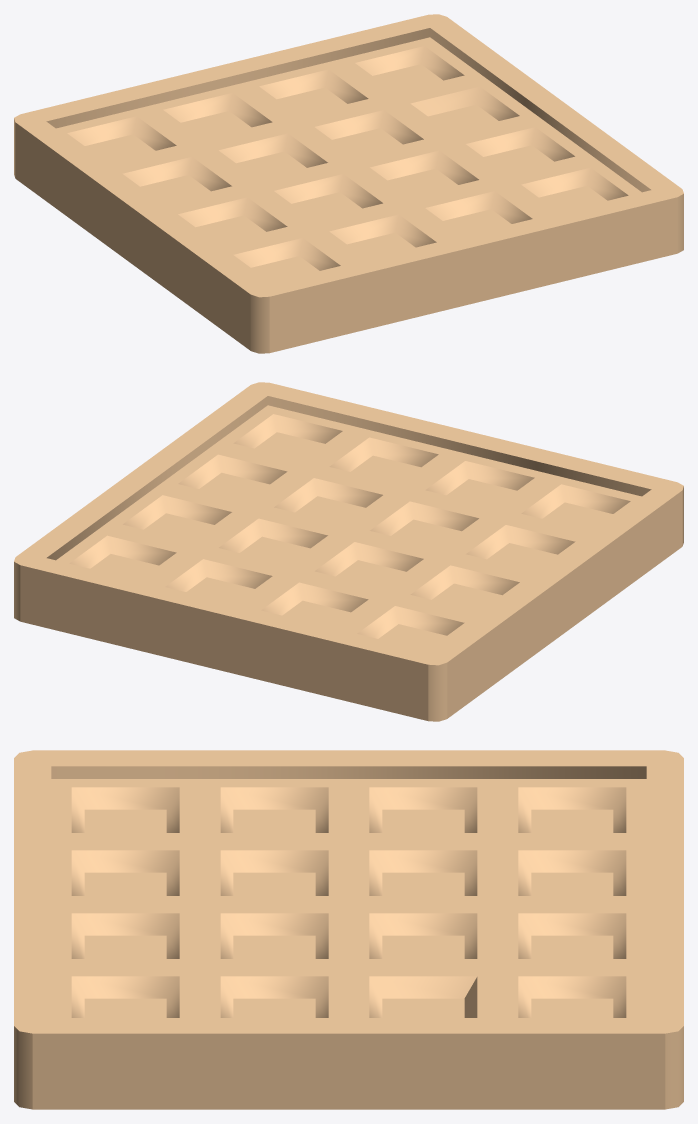
File: Waffle.glb
The picture shows the model from 3 angles, top to bottom: view 1: azimuth 30°, elevation 25°; view 2: azimuth 150°, elevation 25°; view 3: azimuth 270°, elevation 25°; orthographic projection. The views are drawn at different scales.
Parts seen in each view (by area): view 1: waffle; view 2: waffle; view 3: waffle.
Boxes of the visible parts, bbox=[...] form: waffle: bbox=[14, 14, 683, 353]; waffle: bbox=[14, 382, 683, 721]; waffle: bbox=[14, 750, 683, 1109].
Size of the model in its own units: 0.3204 by 0.04 by 0.3204.
